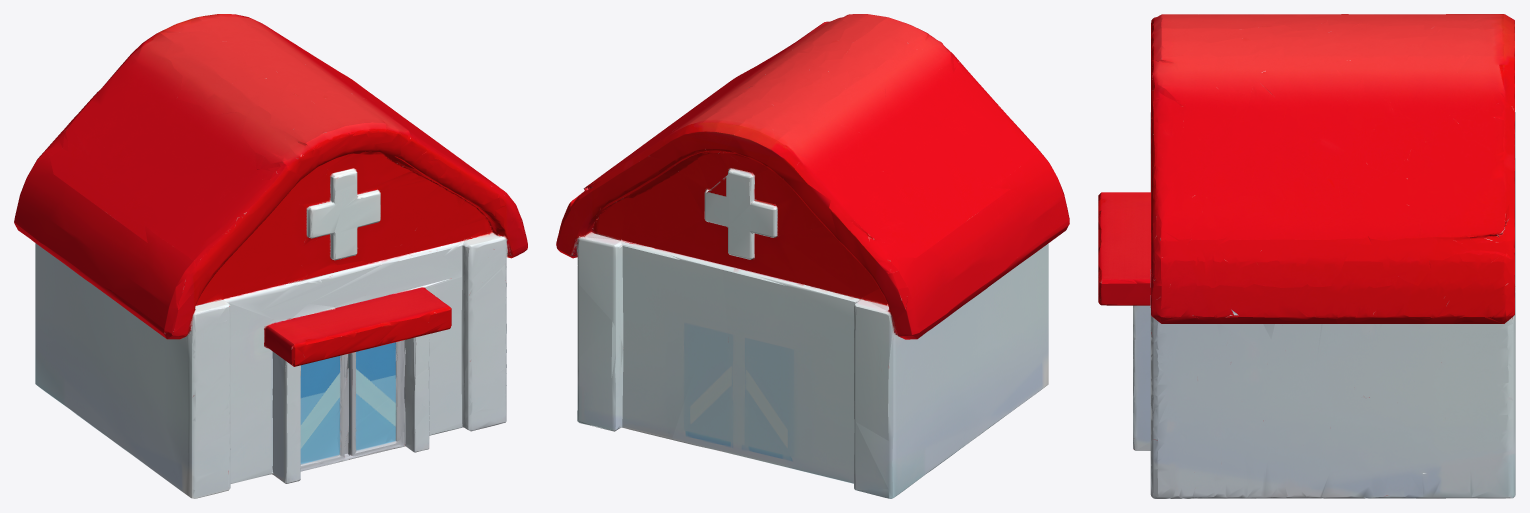
The model's file is pokecenter.glb.
3 views of the same model, side by side, from view 1: azimuth 30°, elevation 25°; view 2: azimuth 150°, elevation 25°; view 3: azimuth 270°, elevation 25° (orthographic). The views are drawn at different scales.
Size of the model in its own units: 1.9 by 1.66 by 1.64.
Materials: 1 (1 with a texture image).
